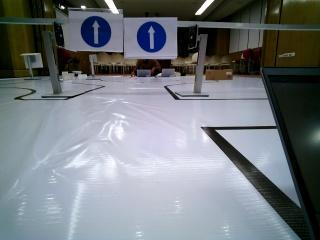straight: (69, 11, 122, 51), (125, 19, 174, 57)
